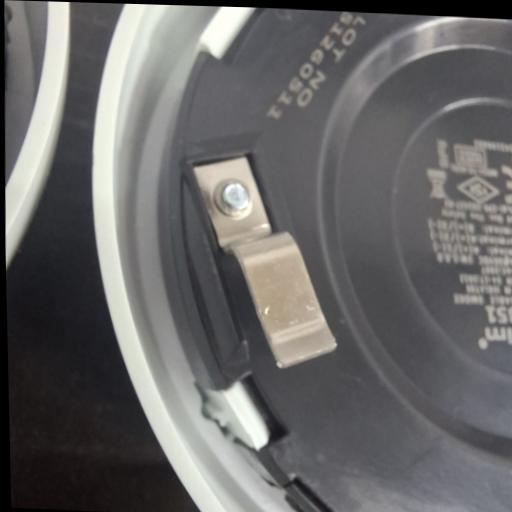yaysiz: (184, 150, 345, 375)
